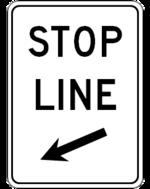Stop: (21, 15, 125, 166)
